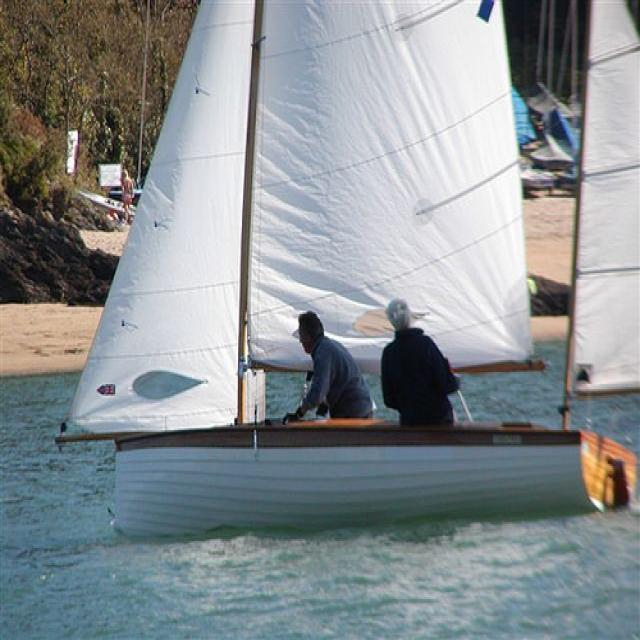Ship: (65, 1, 640, 543)
